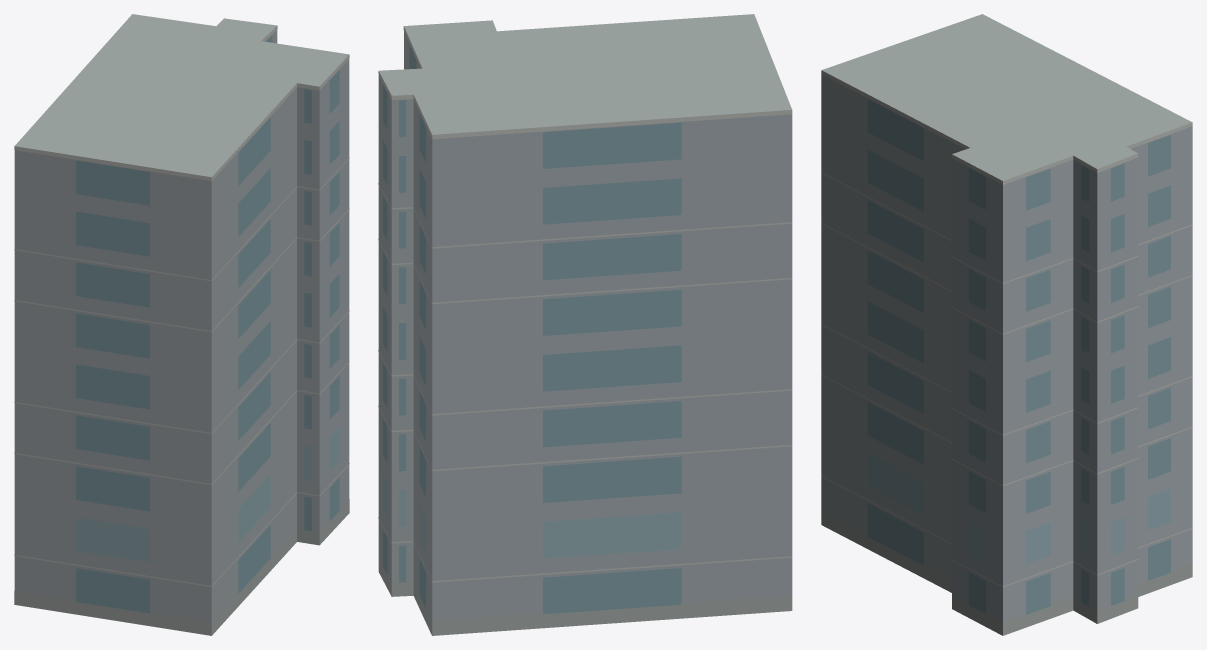
File: survey-upis-32937005.glb
3 views of the same model, side by side, from view 1: azimuth 30°, elevation 25°; view 2: azimuth 150°, elevation 25°; view 3: azimuth 270°, elevation 25° (orthographic). The views are drawn at different scales.
Parts seen in each view (by area): view 1: survey-upis-32937005.tmp; view 2: survey-upis-32937005.tmp; view 3: survey-upis-32937005.tmp.
Part boxes in pixels (x1=…): survey-upis-32937005.tmp: x1=14, y1=14, x2=349, y2=635; survey-upis-32937005.tmp: x1=378, y1=14, x2=792, y2=635; survey-upis-32937005.tmp: x1=821, y1=14, x2=1192, y2=635.
Bounding box in the file's own units: 22.16 × 28.1 × 20.8.
